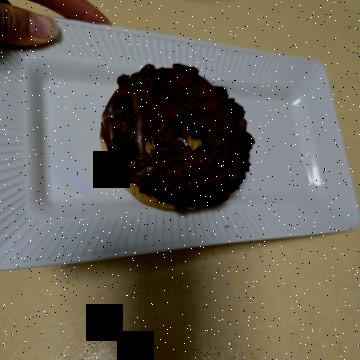doughnut: (53, 82, 221, 256)
